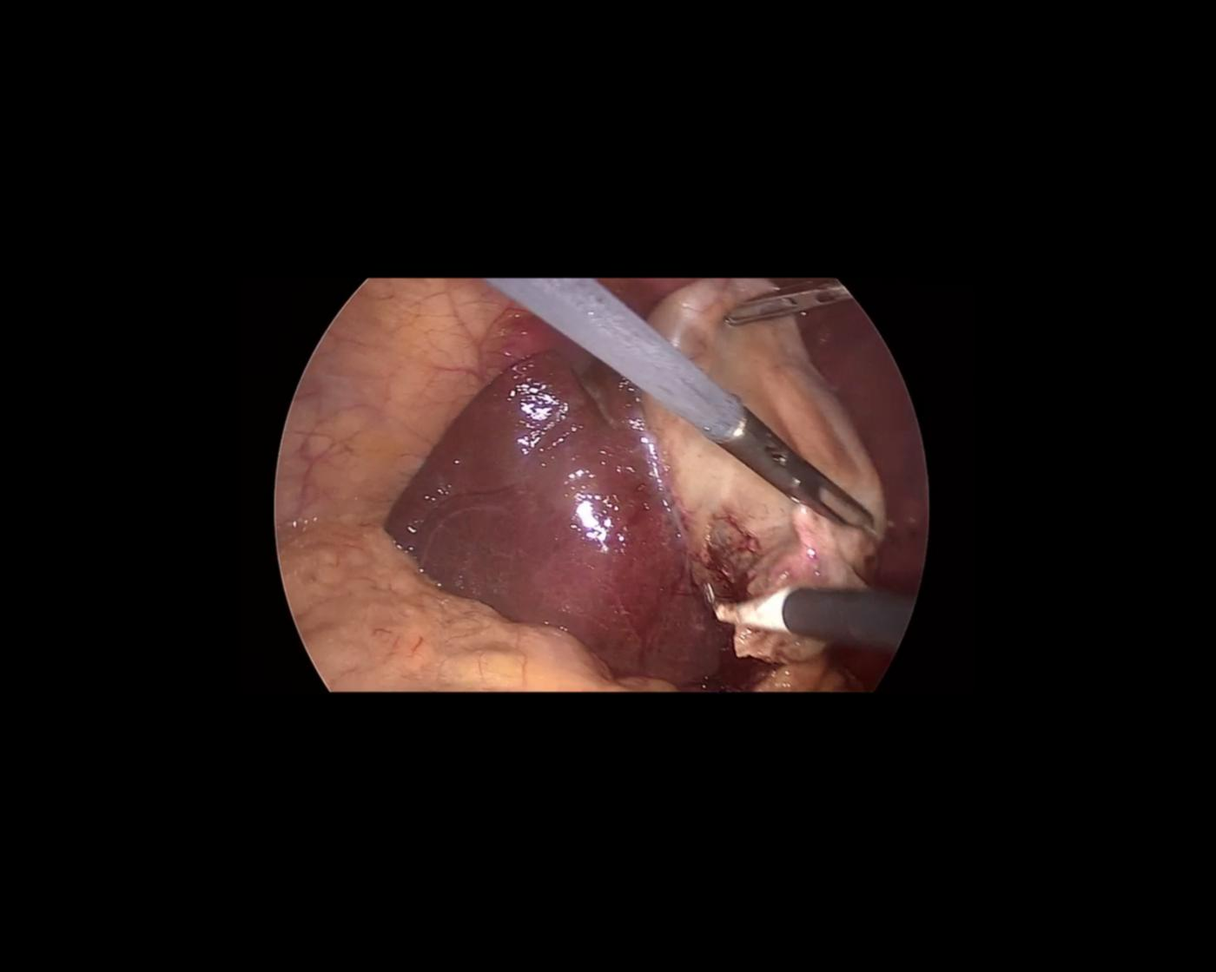Cautery: (695, 580, 915, 653)
Forceps: (484, 227, 885, 577), (720, 274, 856, 332)
Gallbladder: (605, 248, 908, 636)
Liver: (372, 317, 851, 764), (799, 296, 953, 597), (599, 279, 695, 320)
